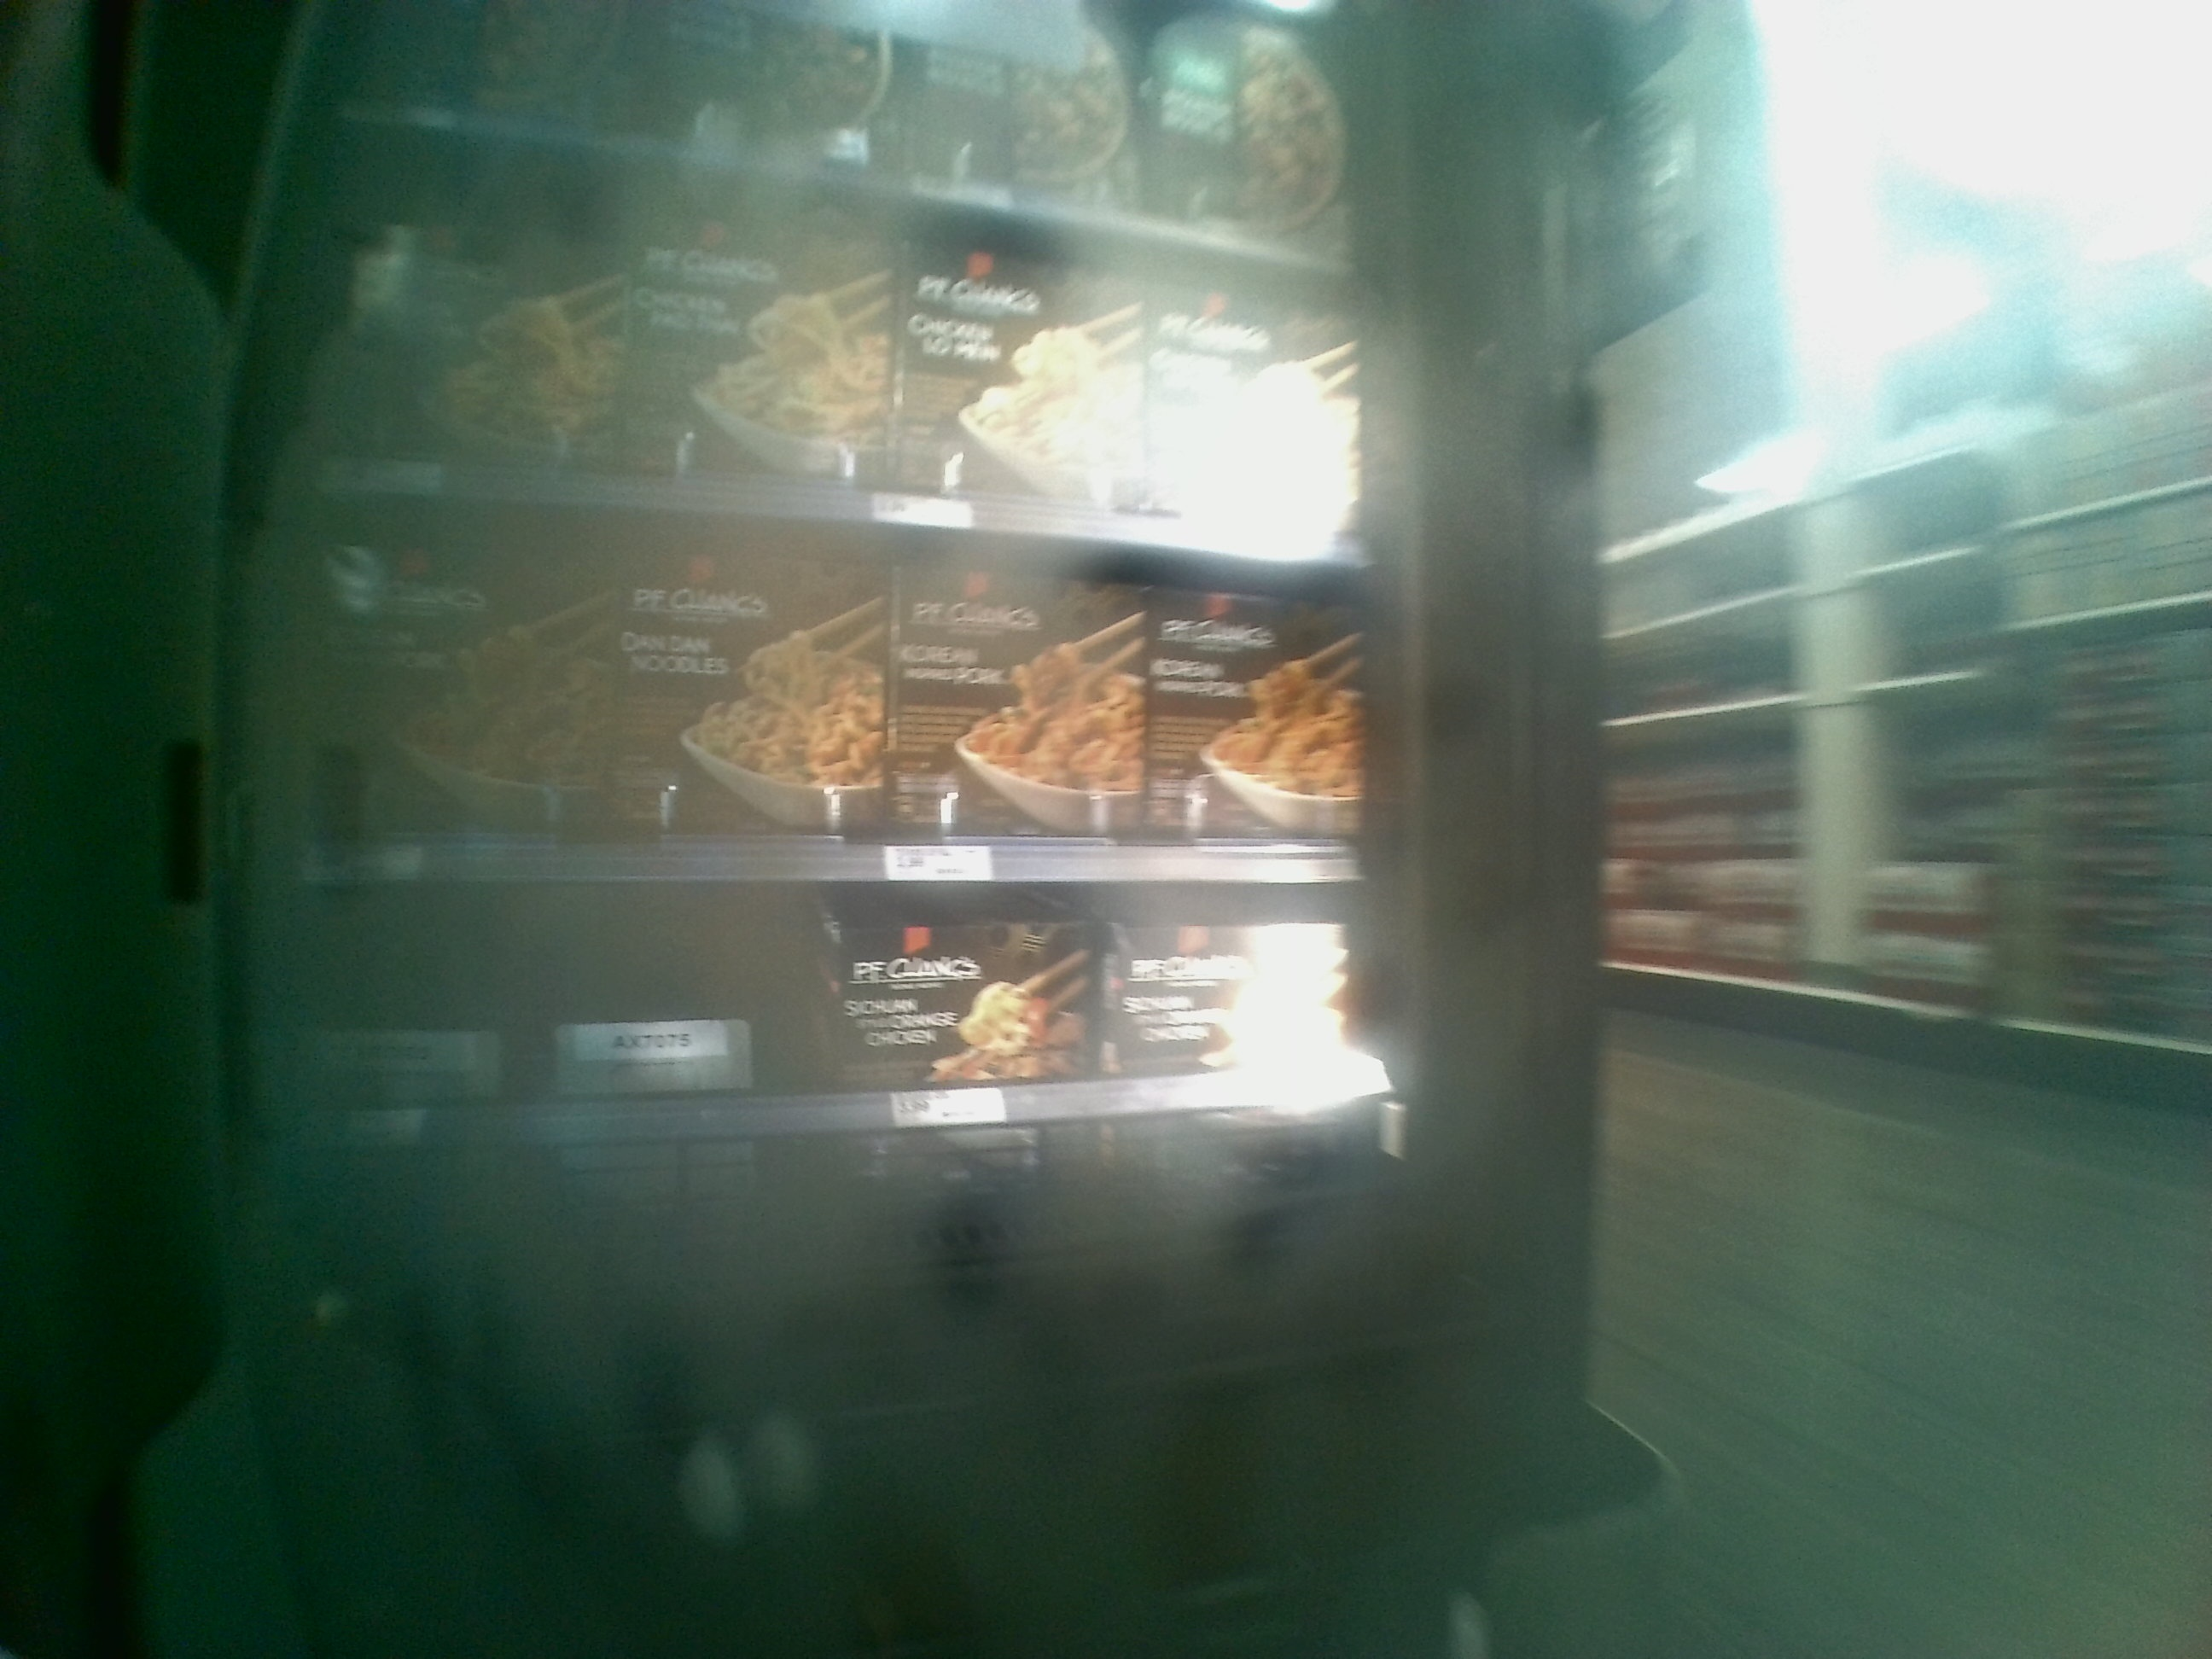shelf: (280, 871, 1407, 1269), (270, 488, 1381, 889)
